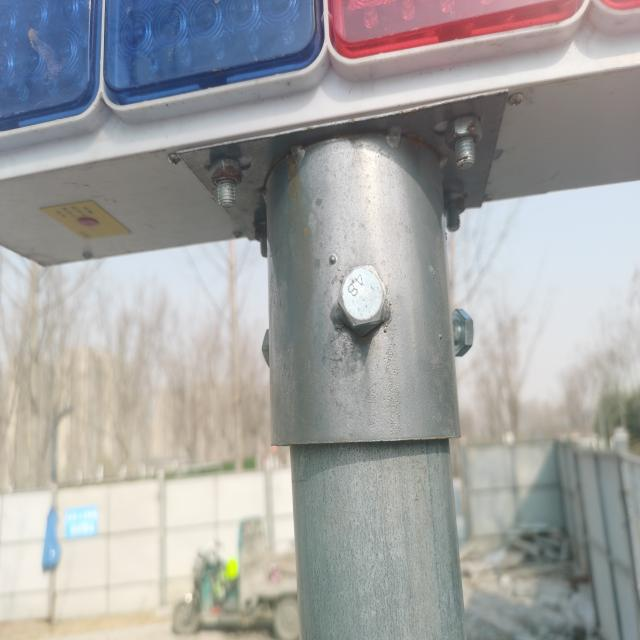blur bolt: (438, 191, 469, 214)
bolt head: (334, 262, 390, 333)
bolt side: (444, 115, 486, 152), (208, 158, 244, 188), (454, 306, 474, 360)
